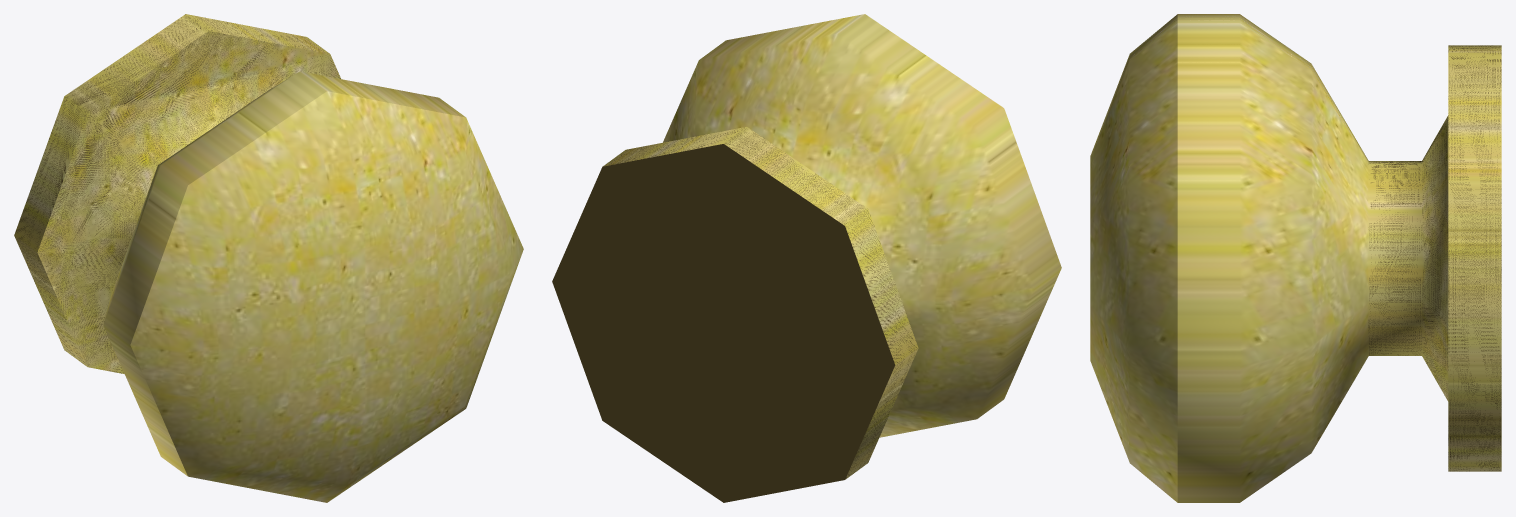
The model's file is original-9.obj.
3 views of the same model, side by side, from view 1: azimuth 30°, elevation 25°; view 2: azimuth 150°, elevation 25°; view 3: azimuth 270°, elevation 25° (orthographic). The views are drawn at different scales.
Visible parts, largest first — view 1: Group9/mesh7/mesh7-geometry#mesh7-geometry; view 2: Group9/mesh7/mesh7-geometry#mesh7-geometry; view 3: Group9/mesh7/mesh7-geometry#mesh7-geometry.
Part boxes in pixels (box(x1,y1,x2,y2)): Group9/mesh7/mesh7-geometry#mesh7-geometry: box(14, 14, 523, 502); Group9/mesh7/mesh7-geometry#mesh7-geometry: box(552, 14, 1061, 502); Group9/mesh7/mesh7-geometry#mesh7-geometry: box(1090, 14, 1501, 502).
Bounding box in the file's own units: 0.0414 × 0.0414 × 0.0327.
